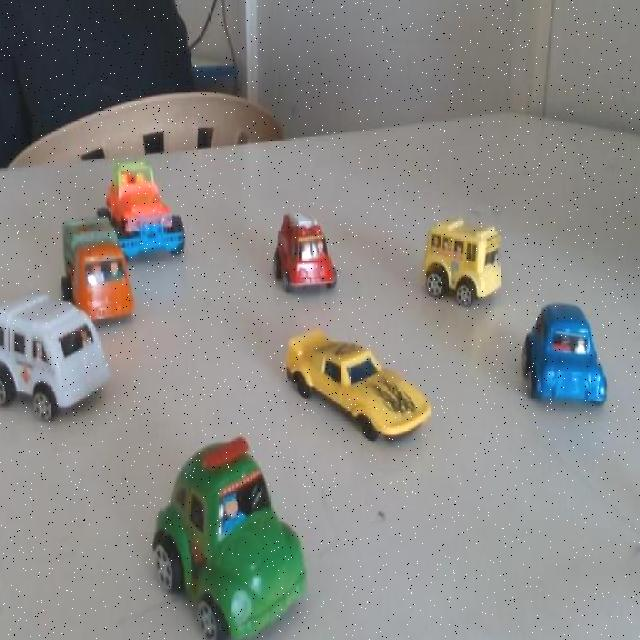car: (142, 435, 321, 640), (0, 271, 123, 444), (286, 322, 426, 449), (412, 214, 504, 320), (109, 152, 193, 262), (261, 199, 339, 310), (62, 206, 132, 328), (526, 304, 606, 408)
